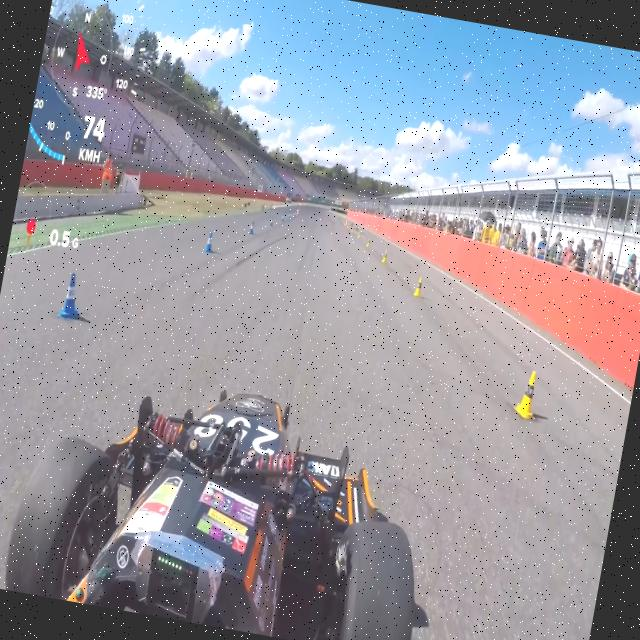blue_cone: (60, 271, 84, 322), (203, 230, 215, 253), (247, 219, 256, 235), (268, 215, 273, 228), (280, 213, 284, 224), (292, 212, 296, 218), (288, 212, 290, 220)
yellow_cone: (508, 359, 542, 421), (412, 272, 424, 300), (380, 248, 388, 264), (365, 237, 371, 250), (356, 228, 362, 240), (350, 226, 354, 234)
